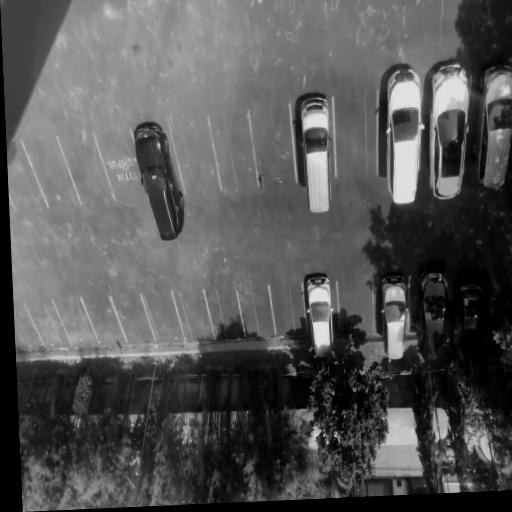Car: (129, 118, 191, 244), (428, 65, 471, 200), (387, 67, 426, 208), (473, 59, 512, 198), (298, 95, 335, 214), (415, 263, 452, 363), (449, 280, 487, 367), (304, 273, 336, 364), (380, 272, 409, 360)
Space Available: (56, 133, 115, 208), (168, 113, 221, 195), (20, 136, 81, 207), (207, 108, 259, 190), (248, 102, 297, 189), (334, 90, 379, 176), (93, 128, 143, 200), (7, 139, 48, 210), (234, 280, 276, 339), (170, 287, 215, 341), (51, 297, 99, 347), (109, 292, 155, 344), (24, 300, 72, 349), (204, 284, 245, 340), (140, 289, 184, 341), (268, 278, 308, 335), (80, 296, 126, 344), (337, 280, 373, 341), (14, 304, 43, 348)
